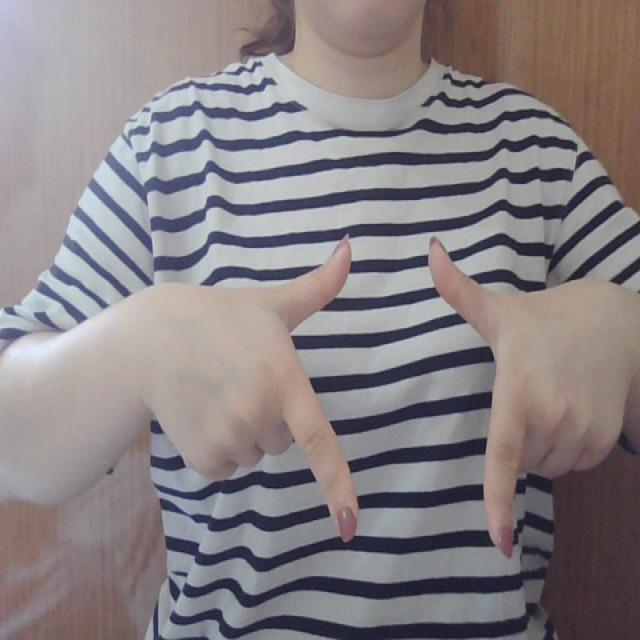Nerede: (240, 229, 545, 569)
